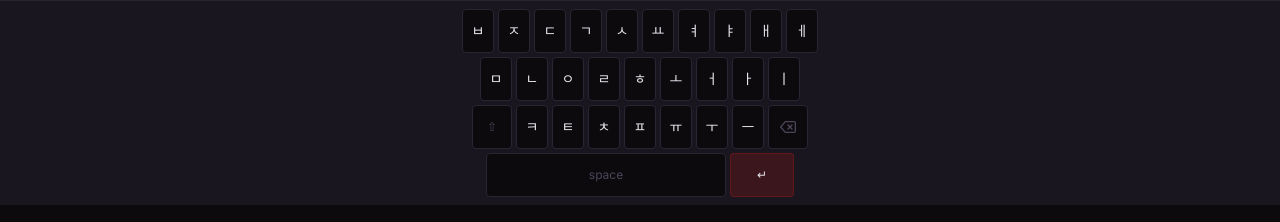
Test: HangulKeyboard › shift resets after space
# Activate shift
Click the button "⇧" at (492, 127), box left=472, top=105, right=512, bottom=149
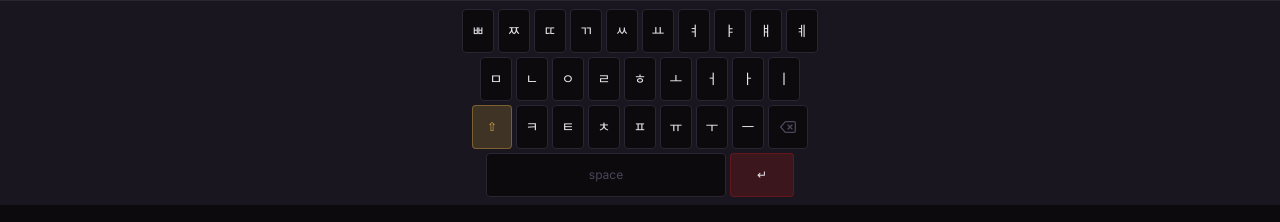
Result: the button "ㅃ" is shown at left=462, top=9, right=494, bottom=53
# Press space — shift should reset
Click the button "space" at (606, 175), box left=486, top=153, right=726, bottom=197
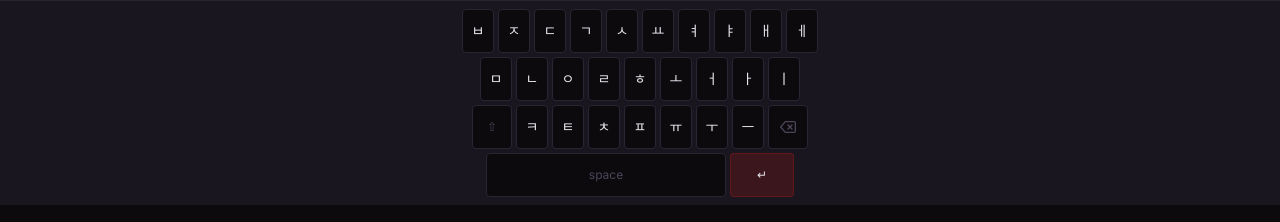
Result: the button "ㅂ" is shown at left=462, top=9, right=494, bottom=53
Result: the button "ㅃ" is gone
